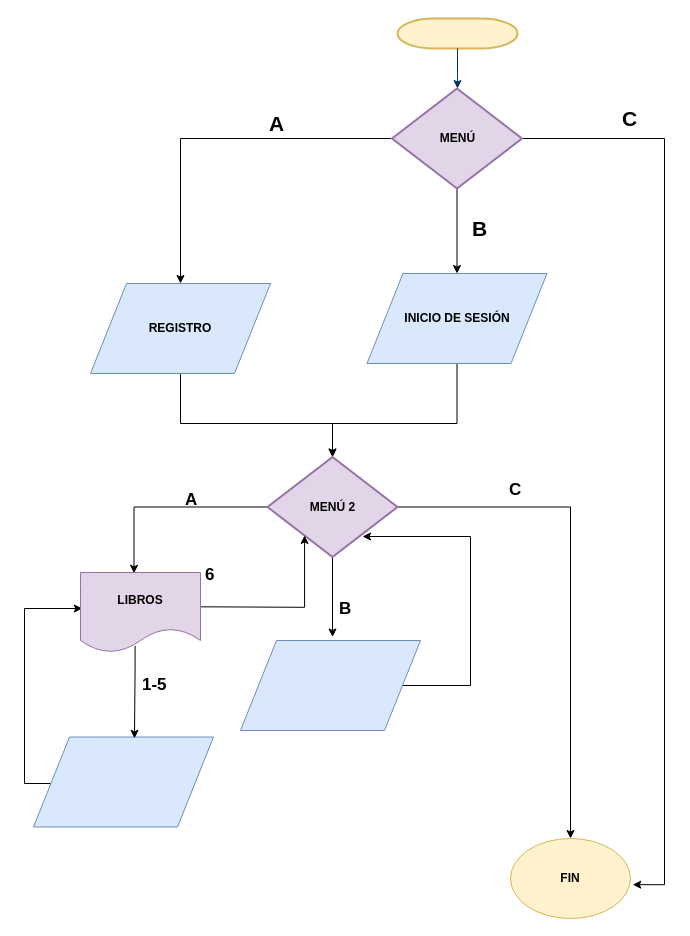
Some shapes in this 690 by 936 pixel diagram are drawn without their labels. Each missing label, with the centre of its shape:
ELECCIÓN DE LIBRO: pixel 123 781
INFORMACIÓN ADICIONAL: pixel 330 685
INICIO: pixel 457 33
